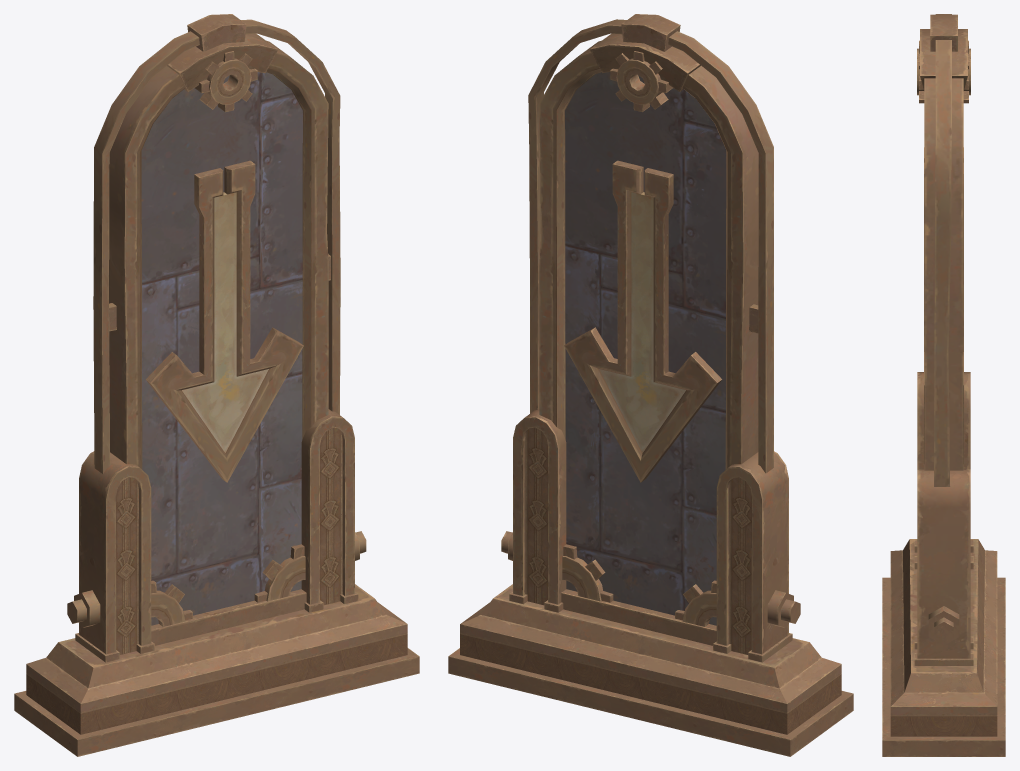
Rendered from Homeworld_Exterior_Fd_Decoration_Prop_Zhishipai_02_Lod0.fbx.
The picture shows the model from 3 angles, left to right: view 1: azimuth 30°, elevation 25°; view 2: azimuth 150°, elevation 25°; view 3: azimuth 270°, elevation 25°; orthographic projection. The views are drawn at different scales.
Visible parts, largest first — view 1: Area_Fd_Prop_SXGC_Zhishipai_02_Lod0; view 2: Area_Fd_Prop_SXGC_Zhishipai_02_Lod0; view 3: Area_Fd_Prop_SXGC_Zhishipai_02_Lod0.
Part boxes in pixels (x1,y1,x2,y2): Area_Fd_Prop_SXGC_Zhishipai_02_Lod0: [14, 14, 419, 756]; Area_Fd_Prop_SXGC_Zhishipai_02_Lod0: [448, 14, 853, 756]; Area_Fd_Prop_SXGC_Zhishipai_02_Lod0: [882, 14, 1005, 756].
Bounding box in the file's own units: 2.36 × 4.43 × 0.7566.
